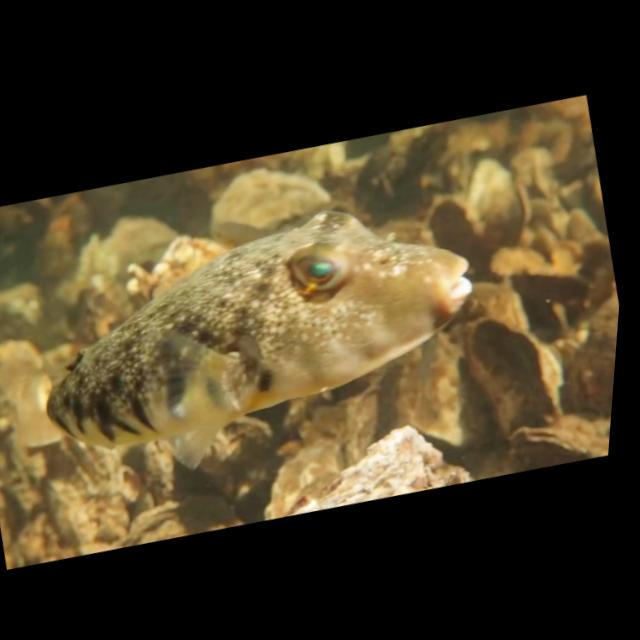Oyster-Closed: (498, 425, 609, 460), (503, 182, 536, 246)
Oyster-Indeterminate: (465, 317, 565, 423), (423, 196, 489, 264), (460, 157, 511, 217)
